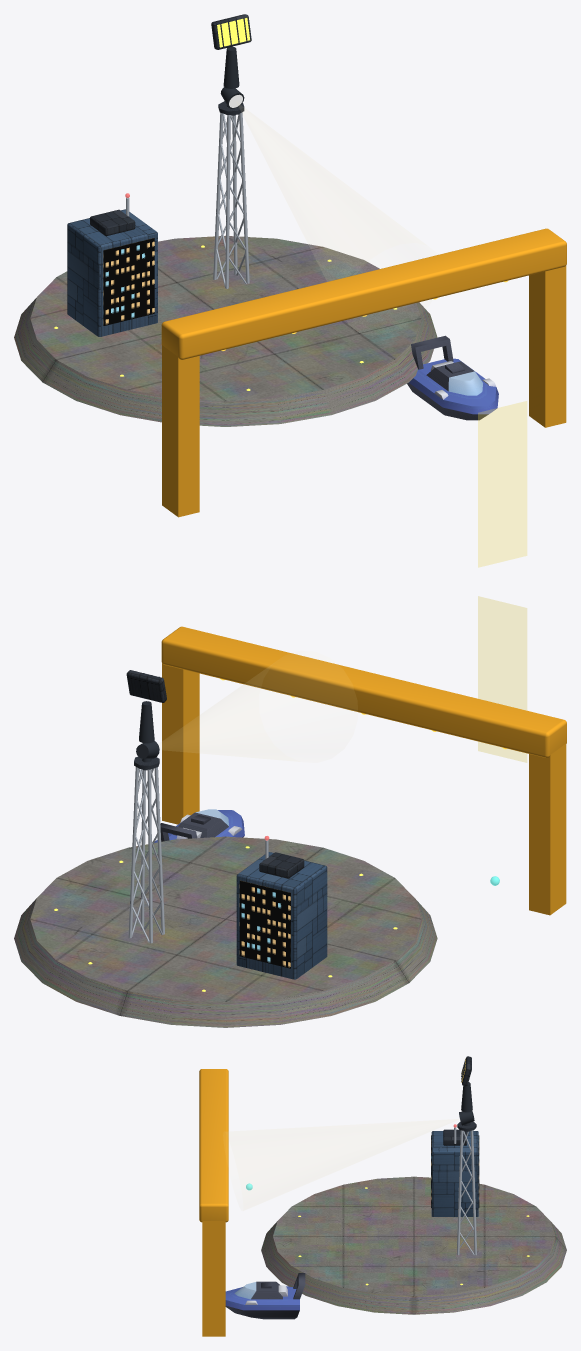
Rendered from customs-T3.glb.
3 renders of one model, top to bottom at view 1: azimuth 30°, elevation 25°; view 2: azimuth 150°, elevation 25°; view 3: azimuth 270°, elevation 25°, orthographic. The views are drawn at different scales.
Visible parts, largest first — view 1: object 1, object 65, anim:scan, object 63, object 64, object 11, boat-speed-a, object 12, anim:rot, object 14; view 2: object 1, object 65, object 63, object 64, object 11, anim:scan, object 13, boat-speed-a, anim:rot, object 14, object 61; view 3: object 1, object 65, object 11, object 64, boat-speed-a.
Part boxes in pixels (x1,y1,x2,y2): object 1: [14, 235, 437, 426]; object 65: [161, 228, 566, 359]; anim:scan: [478, 401, 526, 567]; object 63: [162, 345, 199, 517]; object 64: [529, 266, 566, 427]; object 11: [67, 209, 157, 336]; boat-speed-a: [407, 335, 498, 420]; object 12: [103, 238, 154, 325]; anim:rot: [211, 14, 251, 49]; object 14: [90, 209, 135, 236]; object 1: [14, 836, 437, 1027]; object 65: [161, 626, 566, 757]; object 63: [529, 743, 566, 915]; object 64: [162, 663, 199, 824]; object 11: [236, 852, 327, 979]; anim:scan: [478, 596, 526, 762]; object 13: [239, 880, 290, 968]; boat-speed-a: [154, 809, 244, 842]; anim:rot: [126, 670, 166, 702]; object 14: [259, 852, 304, 878]; object 61: [139, 701, 154, 743]; object 1: [261, 1176, 566, 1314]; object 65: [199, 1069, 228, 1222]; object 11: [431, 1131, 478, 1216]; object 64: [202, 1221, 225, 1336]; boat-speed-a: [225, 1273, 305, 1319].
Size of the model in its own units: 5.5 by 4.18 by 9.4.
16 materials, 6 textured.
